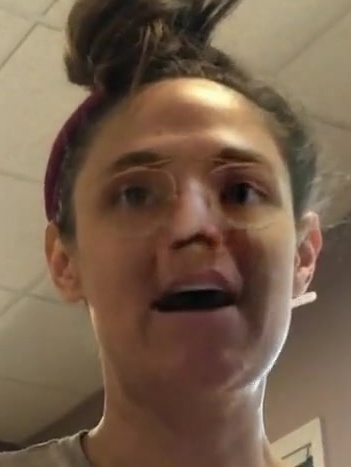n_f: (163, 171, 226, 254)
